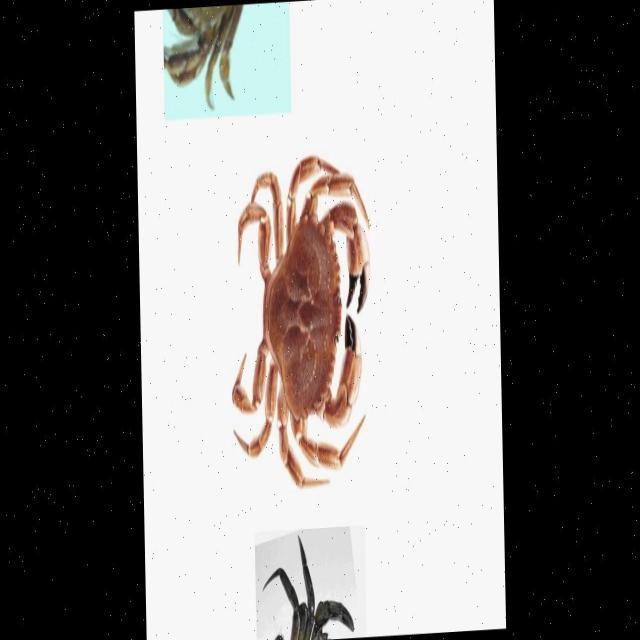egc: (261, 533, 355, 640)
